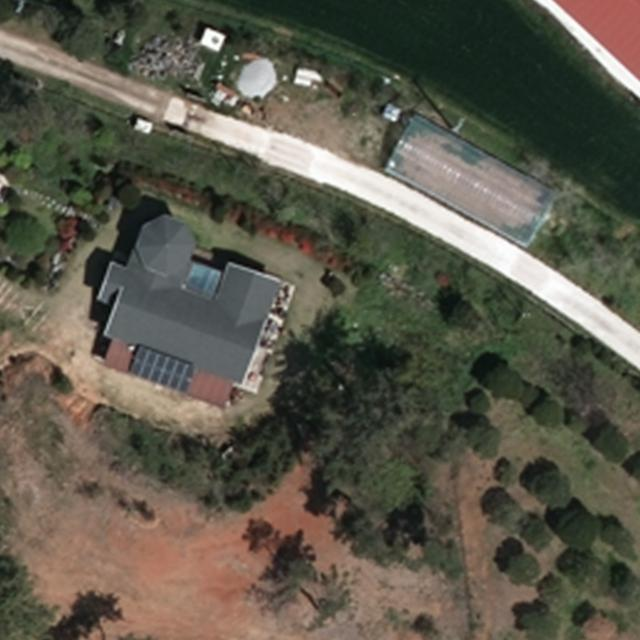panel: (126, 341, 199, 399)
